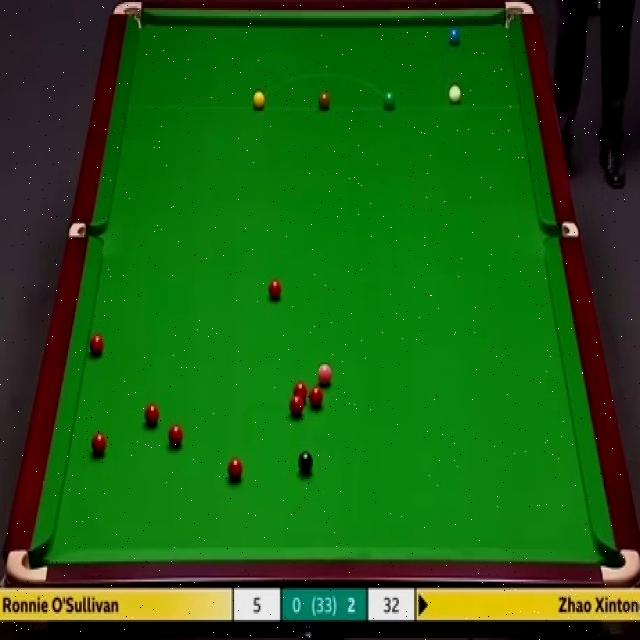black-ball: (298, 451, 314, 476)
blue-ball: (447, 22, 462, 47)
brown-ball: (318, 91, 331, 112)
green-ball: (382, 91, 397, 112)
pink-ball: (314, 363, 333, 387)
red-ball: (90, 431, 108, 459), (143, 404, 160, 430), (166, 424, 184, 448), (267, 278, 284, 302), (227, 457, 243, 482), (288, 395, 304, 419), (88, 333, 103, 358), (308, 385, 324, 408), (292, 381, 308, 402)
white-ball: (448, 80, 463, 104)
yellow-ball: (252, 90, 266, 111)
